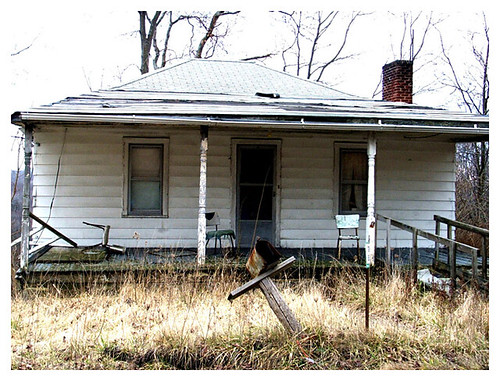building: (18, 54, 477, 271)
mail box: (247, 233, 303, 344)
